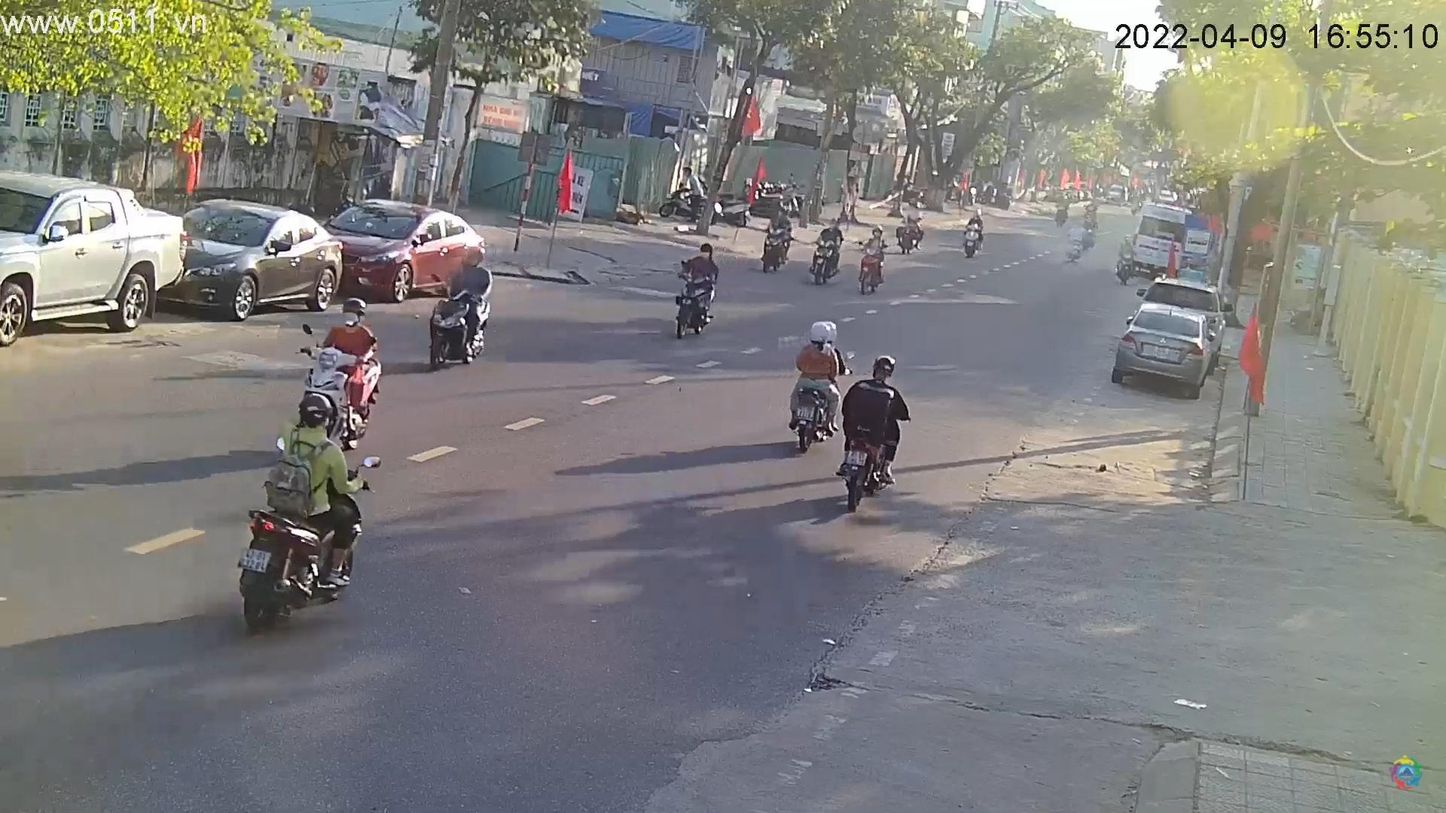car: (3, 178, 187, 348), (163, 201, 352, 323), (318, 197, 493, 306)
motorbike: (420, 276, 496, 370), (675, 271, 714, 343), (808, 234, 846, 288), (856, 245, 888, 297)
